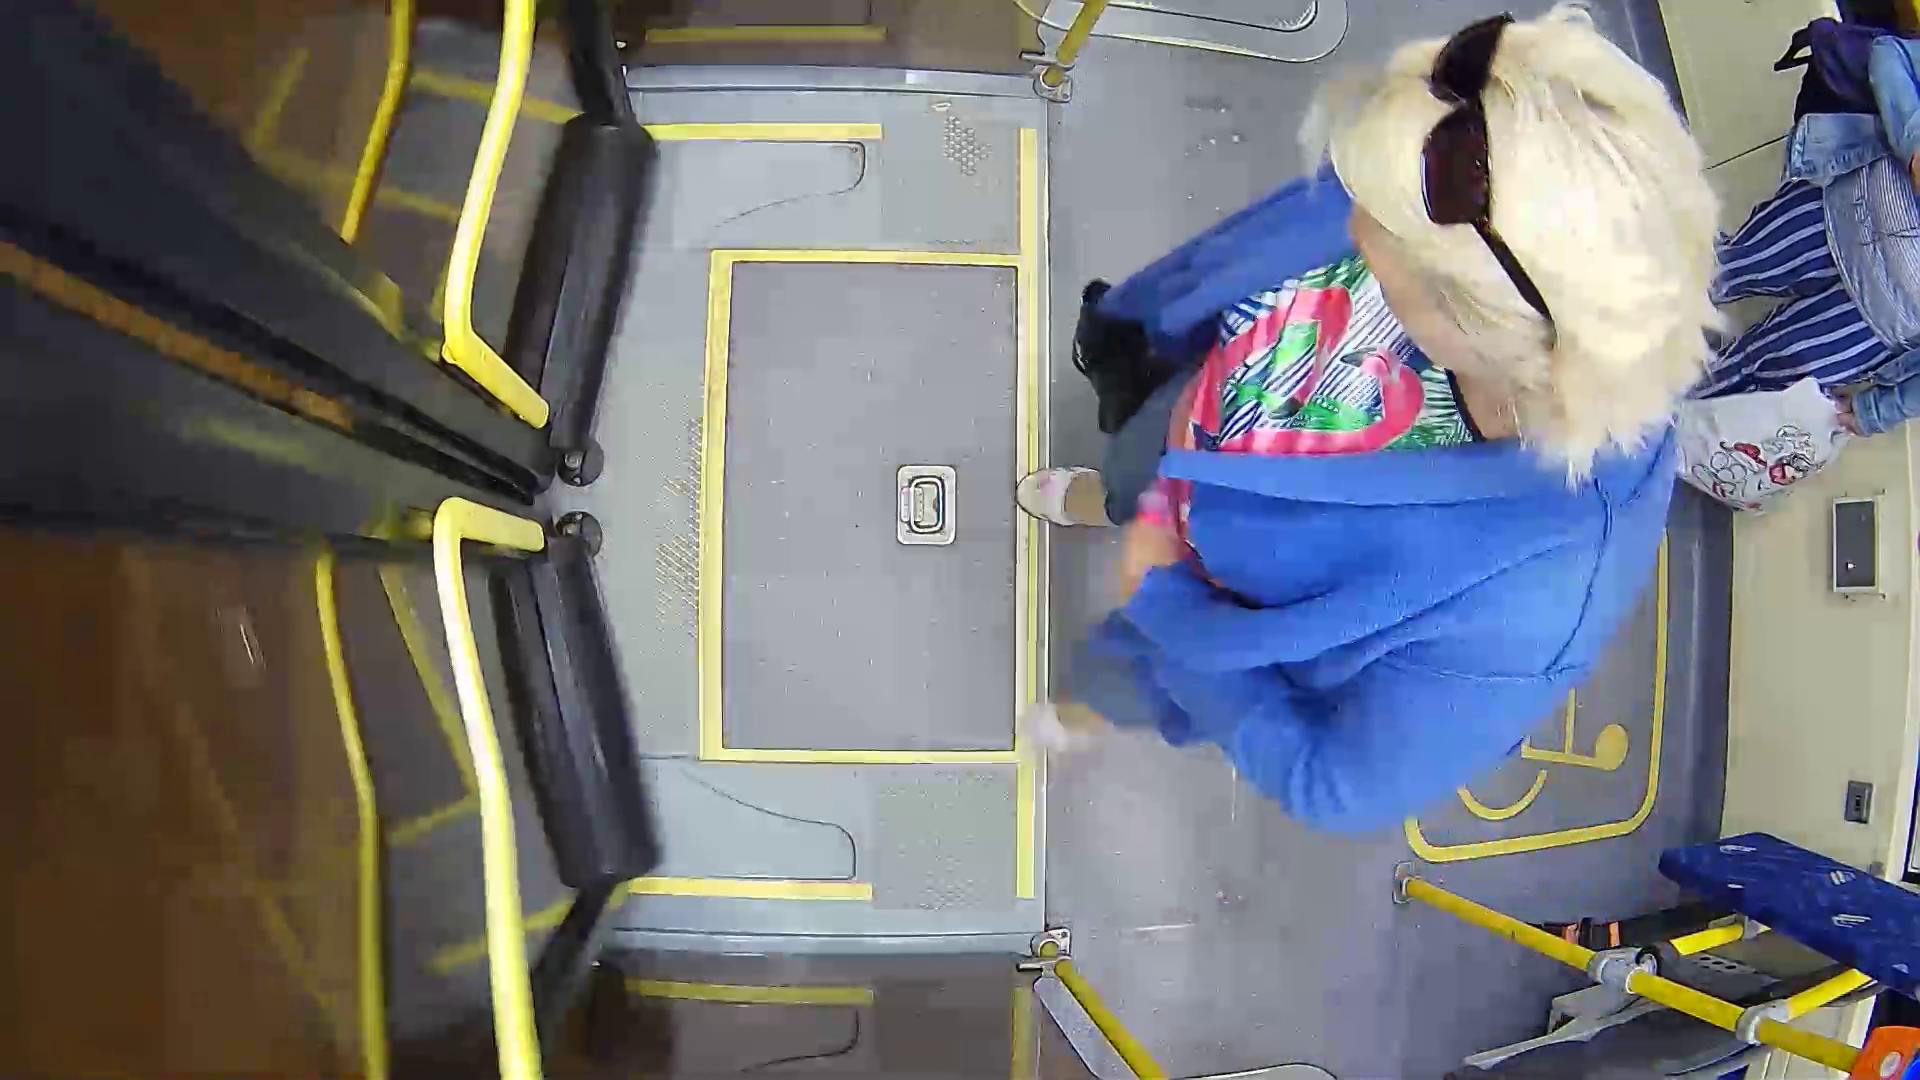person: (1074, 37, 1729, 854)
